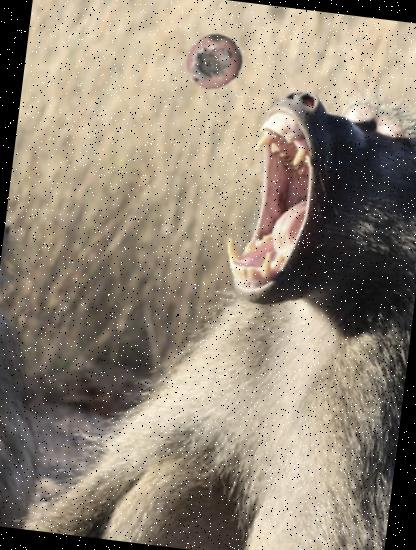Kaki: (180, 30, 246, 96)
